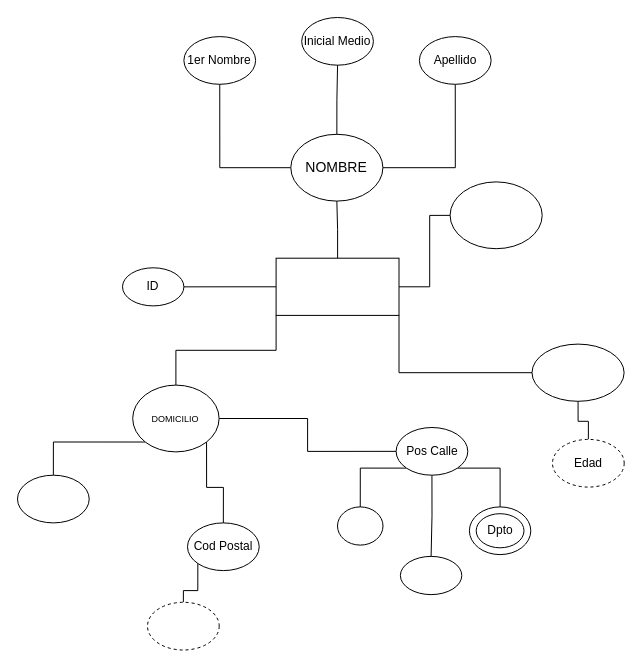
This 642x668 diagram has some shape labels left out. The shapes that lost their labels are listed below. From the top down, each one's centre as x and y in pixels, then its label:
[337,286]: DOCENTE
[577,372]: Fecha Nacimiento
[52,498]: Estado
[359,525]: Nro
[430,575]: Nro Calle
[182,625]: Ciudad
